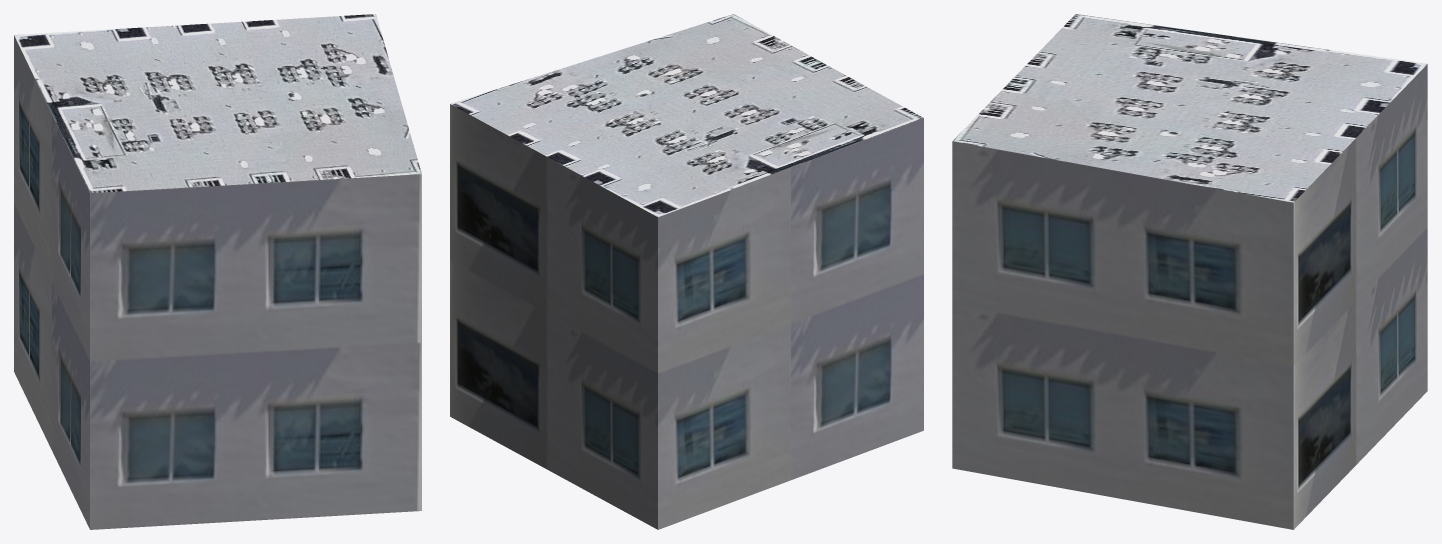
The model's file is ResTex__3802.fbx.
The picture shows the model from 3 angles, left to right: view 1: azimuth 30°, elevation 25°; view 2: azimuth 150°, elevation 25°; view 3: azimuth 270°, elevation 25°; orthographic projection. The views are drawn at different scales.
Visible parts, largest first — view 1: CityEngineMaterial_10_m, CityEngineMaterial_2_m; view 2: CityEngineMaterial_10_m, CityEngineMaterial_2_m; view 3: CityEngineMaterial_10_m, CityEngineMaterial_2_m.
Boxes of the visible parts, left/top/right/bottom form: CityEngineMaterial_10_m: left=14, top=35, right=421, bottom=529; CityEngineMaterial_2_m: left=14, top=14, right=421, bottom=193; CityEngineMaterial_10_m: left=450, top=104, right=923, bottom=529; CityEngineMaterial_2_m: left=450, top=14, right=923, bottom=216; CityEngineMaterial_10_m: left=952, top=64, right=1427, bottom=529; CityEngineMaterial_2_m: left=952, top=14, right=1427, bottom=202.
Bounding box in the file's own units: 7.42 × 6 × 7.9.
Materials: 2 (2 with a texture image).
